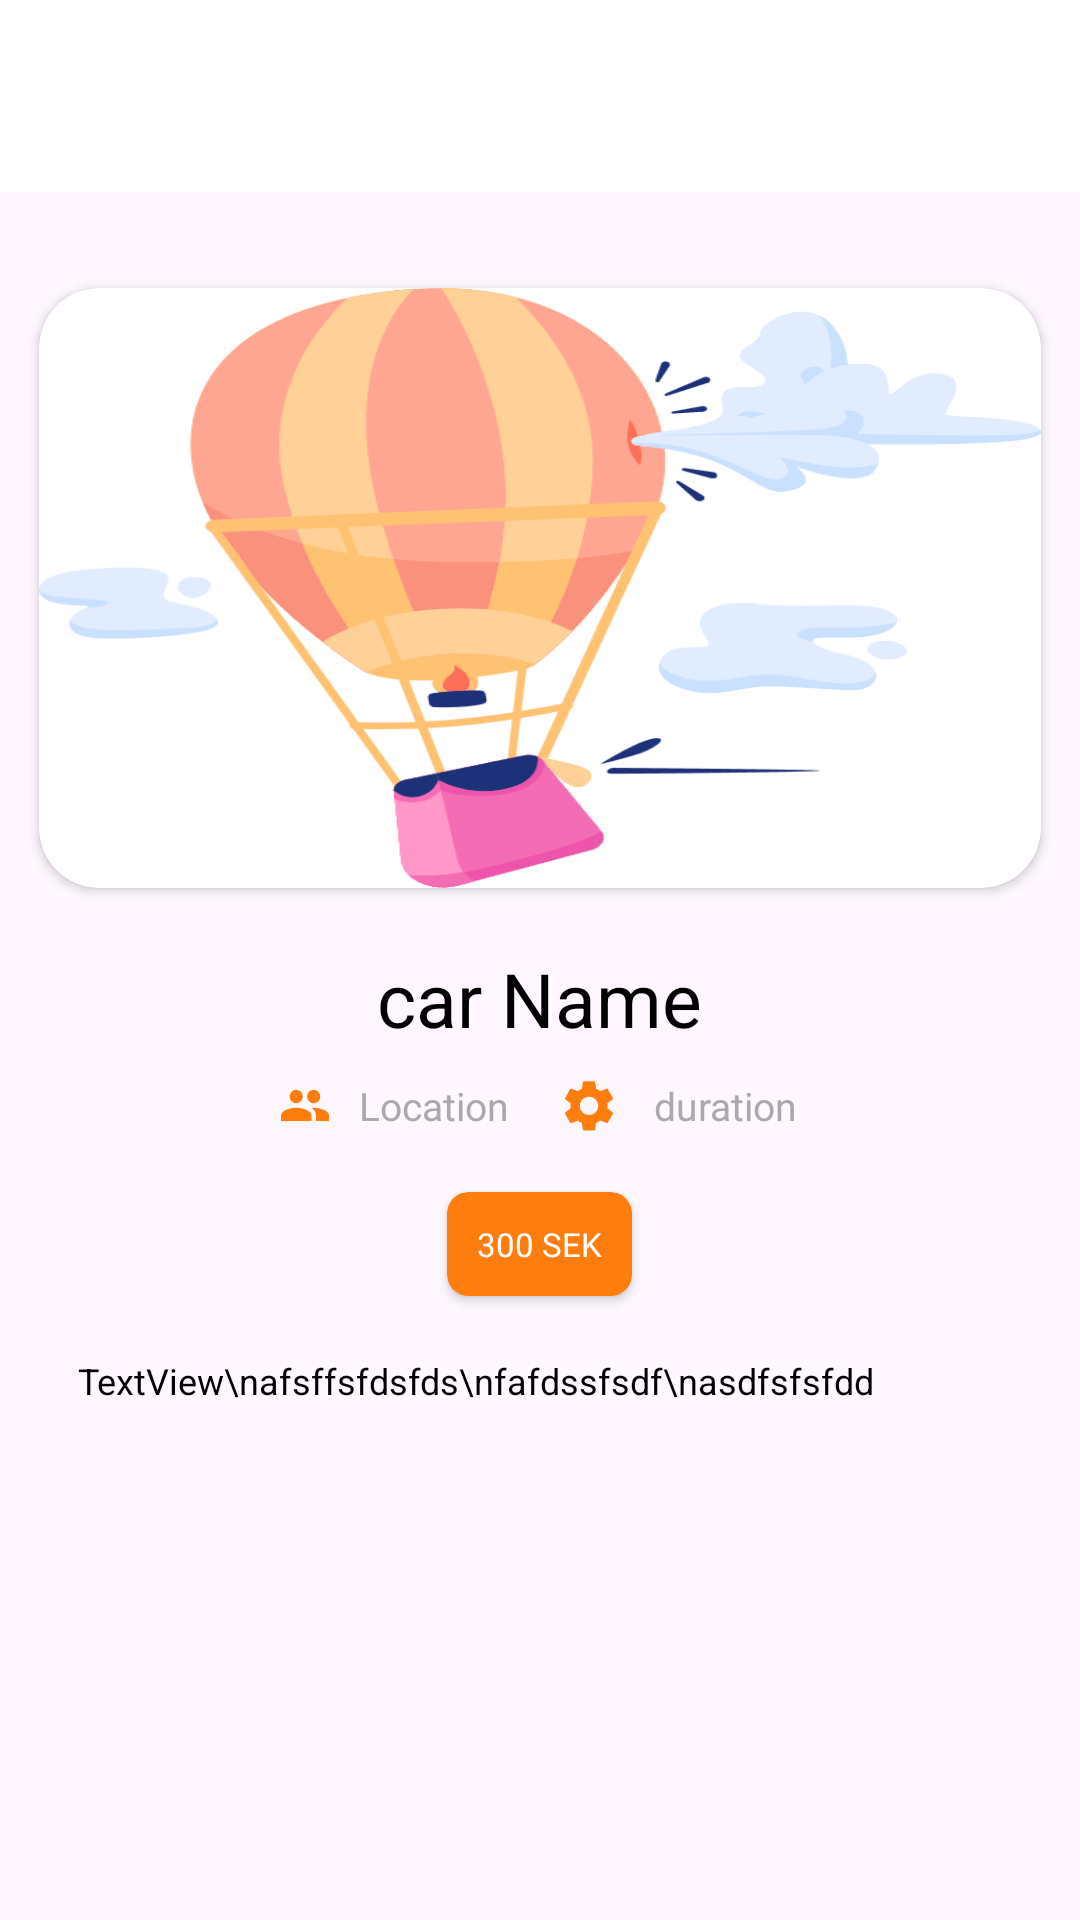

Icons on this 1080w x 1920h Android screen, each with its box as (x1, y1, x2, y2):
seats: (281, 1090, 329, 1121)
transmission: (565, 1081, 613, 1131)
